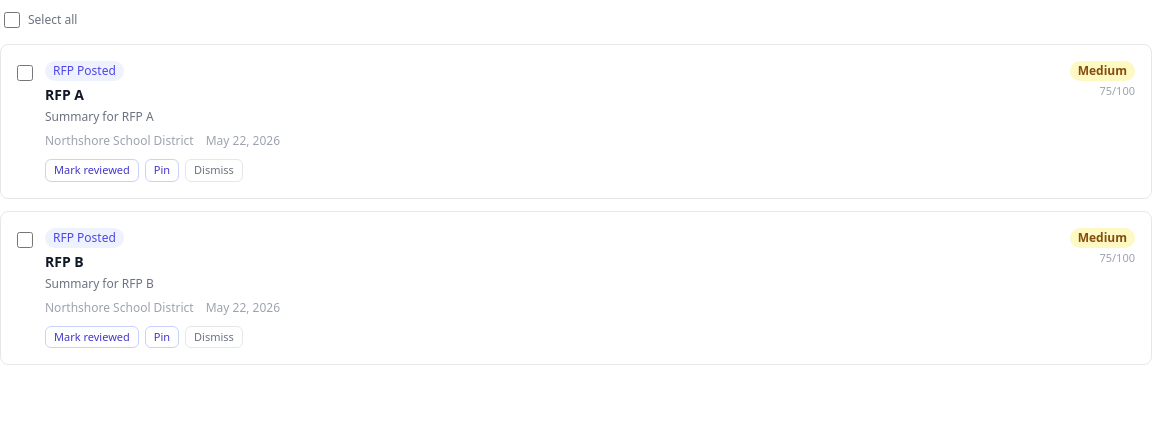
FeedList — multi-select (G3) › selecting a row reveals the bulk-action bar with the count
The width and height of the screenshot is (1152, 446).
Click the 1st checkbox with test id "feed-item-select". click: click(25, 73)
box: [17,65,33,81]
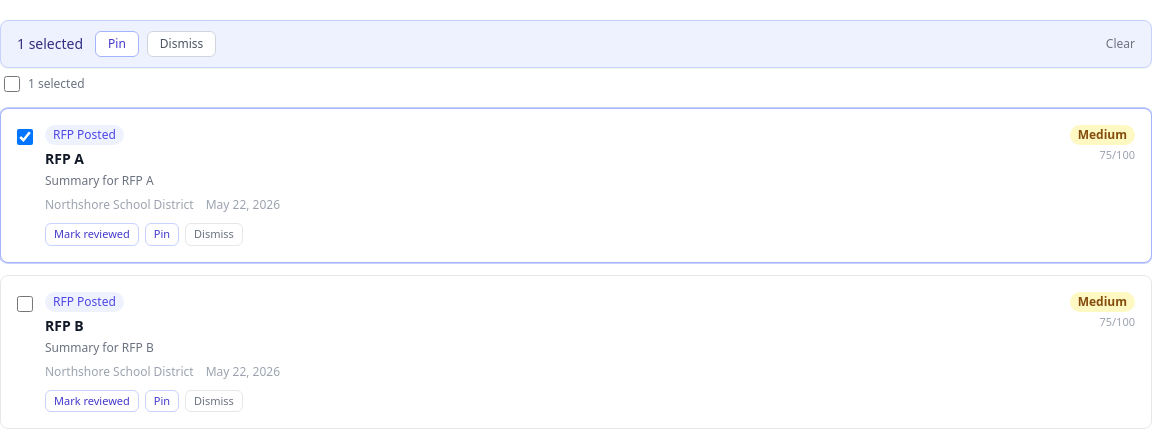
Expected: the element with test id "bulk-action-bar" is shown, [0,20,1151,68]
Expected: the text with test id "bulk-selected-count" reads "1 selected", [17,34,83,54]
